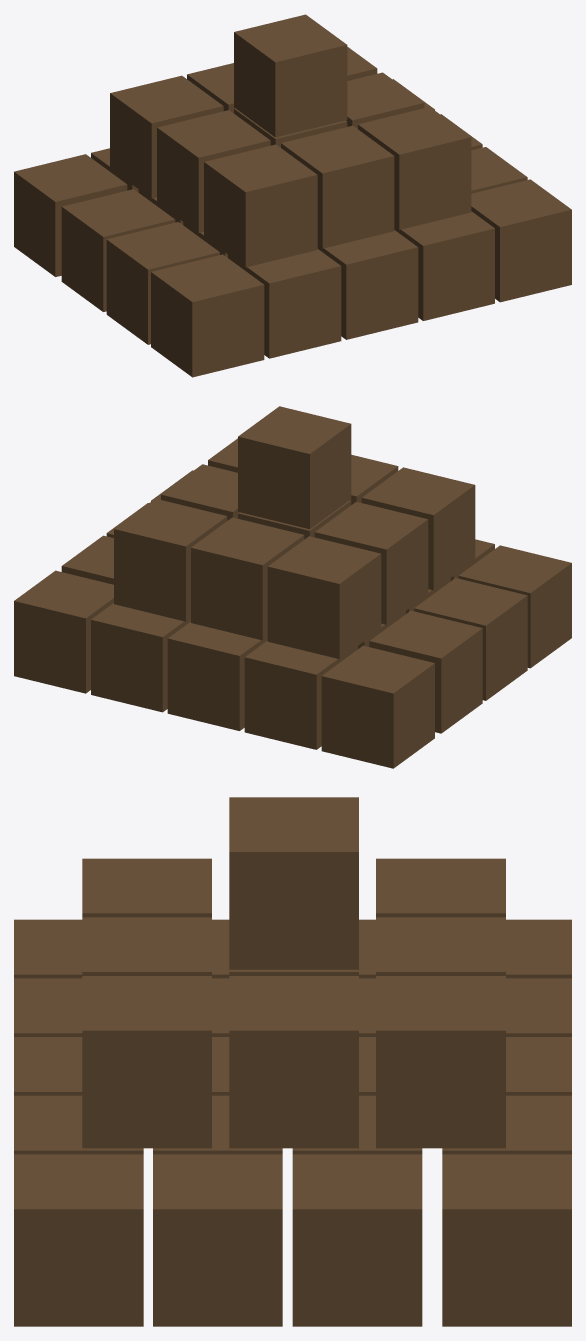
The model's file is boxes2.fbx.
3 views of the same model, one above another, from view 1: azimuth 30°, elevation 25°; view 2: azimuth 150°, elevation 25°; view 3: azimuth 270°, elevation 25° (orthographic). The views are drawn at different scales.
Visible parts, largest first — view 1: Cube.003; view 2: Cube.003; view 3: Cube.003.
Part boxes in pixels (bbox=[...]): Cube.003: bbox=[14, 14, 571, 377]; Cube.003: bbox=[14, 406, 571, 768]; Cube.003: bbox=[14, 797, 571, 1326].
Bounding box in the file's own units: 1056 × 605 × 860.
